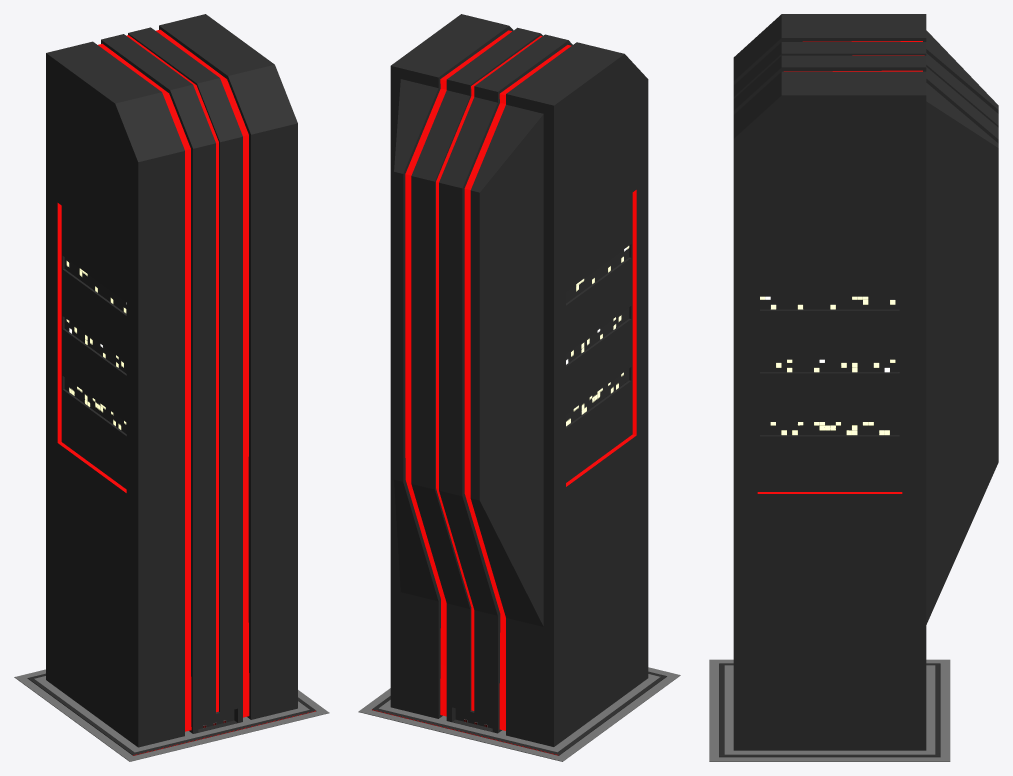
Rendered from Bina 3.fbx.
The picture shows the model from 3 angles, left to right: view 1: azimuth 30°, elevation 25°; view 2: azimuth 150°, elevation 25°; view 3: azimuth 270°, elevation 25°; orthographic projection. The views are drawn at different scales.
Visible parts, largest first — view 1: Ars, ArsStand; view 2: Ars, ArsStand; view 3: Ars, ArsStand.
Part boxes in pixels (x1,y1,x2,y2): Ars: (46, 14, 297, 747); ArsStand: (14, 669, 329, 761); Ars: (390, 14, 648, 746); ArsStand: (358, 667, 680, 761); Ars: (733, 14, 998, 750); ArsStand: (709, 659, 950, 761).
Size of the model in its own units: 64.23 by 193 by 77.08.
Materials: 3 (3 with a texture image).
